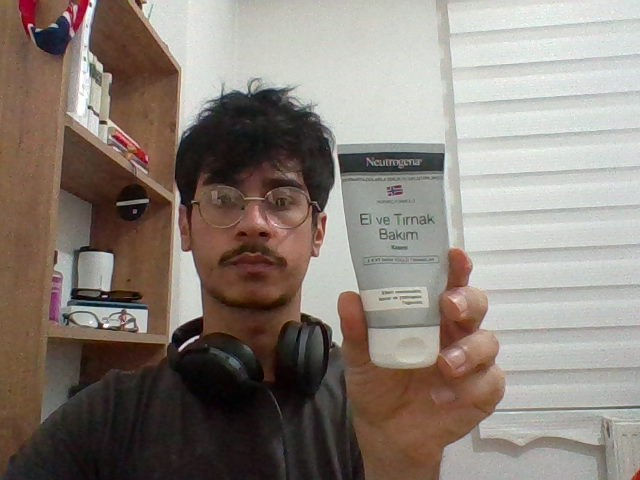Neutrogena: (336, 146, 452, 365)
